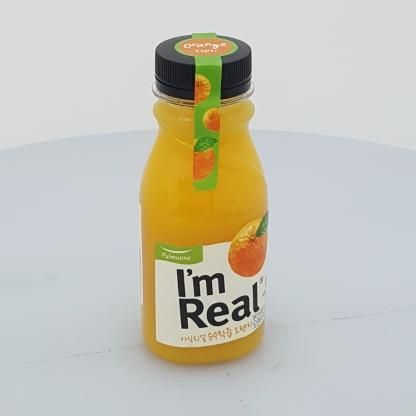-----------------190ML: (139, 32, 268, 363)
